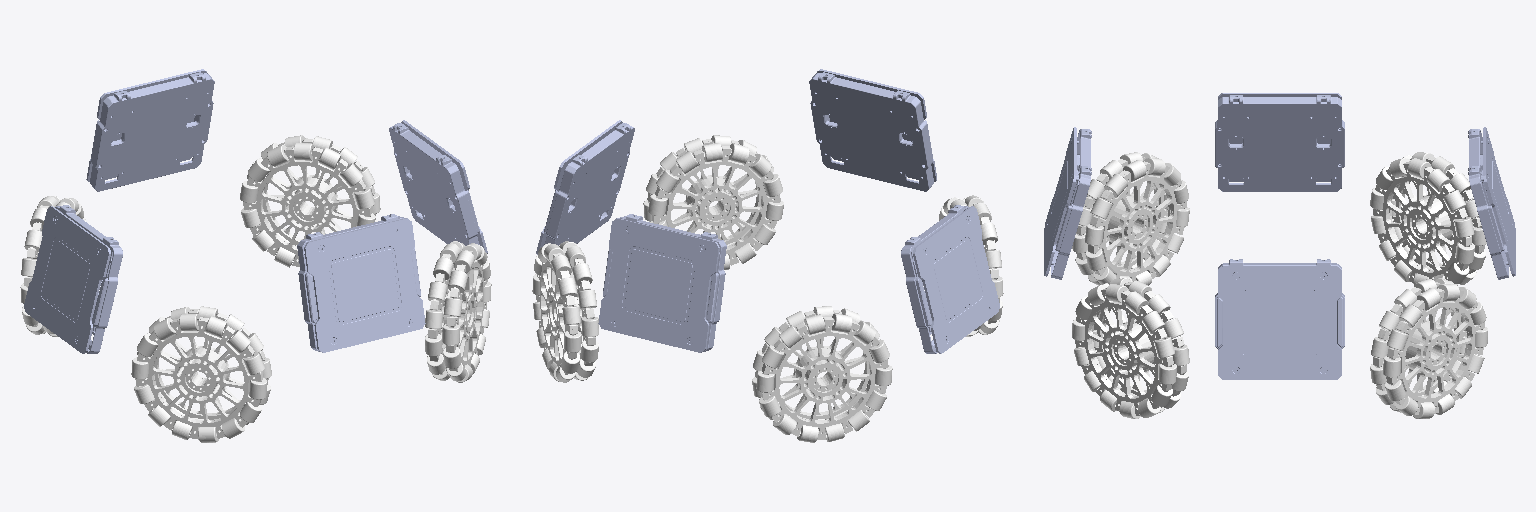
URDF robot description (sentry_solidworks_preview):
<?xml version='1.0' encoding='utf-8'?>
<robot name="sentry_solidworks_preview">
  <link name="base">
    <inertial>
      <origin xyz="0.0010047 0.003979 0.059702" rpy="0 0 0" />
      <mass value="7.5396" />
      <inertia ixx="0.011343" ixy="4.8356E-06" ixz="6.2947E-06" iyy="0.016275" iyz="-3.5443E-06" izz="0.023445" />
    </inertial>
    <visual>
      <origin xyz="0 0 0" rpy="0 0 0" />
      <geometry>
        <mesh filename="package://sentry_solidworks_preview/meshes/base.STL" />
      </geometry>
      <material name="">
        <color rgba="0.89804 0.91765 0.92941 1" />
      </material>
    </visual>
  </link>
  <link name="yaw">
    <inertial>
      <origin xyz="0.0073031 -0.030687 0.12548" rpy="0 0 0" />
      <mass value="2.4882" />
      <inertia ixx="0.0031992" ixy="-4.0159E-06" ixz="-1.5444E-05" iyy="0.0018446" iyz="-5.4833E-05" izz="0.0023987" />
    </inertial>
    <visual>
      <origin xyz="0 0 0" rpy="0 0 0" />
      <geometry>
        <mesh filename="package://sentry_solidworks_preview/meshes/yaw.STL" />
      </geometry>
      <material name="">
        <color rgba="0.79216 0.81961 0.93333 1" />
      </material>
    </visual>
  </link>
  <joint name="yaw" type="revolute">
    <origin xyz="0 0 0.1595" rpy="0 0 0" />
    <parent link="base" />
    <child link="yaw" />
    <axis xyz="0 0 -1" />
    <limit lower="0" upper="0" effort="0" velocity="0" />
  </joint>
  <link name="armor-1">
    <inertial>
      <origin xyz="-0.0083693 8.4227E-09 0.00081288" rpy="0 0 0" />
      <mass value="0.096294" />
      <inertia ixx="0.00027639" ixy="5.4094E-12" ixz="-2.6918E-07" iyy="0.00013222" iyz="4.6908E-10" izz="0.00014509" />
    </inertial>
    <visual>
      <origin xyz="0 0 0" rpy="0 0 0" />
      <geometry>
        <mesh filename="package://sentry_solidworks_preview/meshes/armor-1.STL" />
      </geometry>
      <material name="">
        <color rgba="0.79216 0.81961 0.93333 1" />
      </material>
    </visual>
  </link>
  <joint name="armor-1" type="fixed">
    <origin xyz="0.23985 0 0.063281" rpy="0 -0.2618 0" />
    <parent link="base" />
    <child link="armor-1" />
    <axis xyz="0 0 0" />
  </joint>
  <link name="armor-2">
    <inertial>
      <origin xyz="-0.00836925080902123 6.89301807833633E-09 0.000812881822971637" rpy="0 0 0" />
      <mass value="0.0962935697647964" />
      <inertia ixx="0.000276386812497067" ixy="5.08518002775209E-12" ixz="-2.69180564566259E-07" iyy="0.000132220586535066" iyz="4.74150910029258E-10" izz="0.000145085858261613" />
    </inertial>
    <visual>
      <origin xyz="0 0 0" rpy="0 0 0" />
      <geometry>
        <mesh filename="package://sentry_solidworks_preview/meshes/armor-2.STL" />
      </geometry>
      <material name="">
        <color rgba="0.792156862745098 0.819607843137255 0.933333333333333 1" />
      </material>
    </visual>
  </link>
  <joint name="armor-2" type="fixed">
    <origin xyz="0 0.23985 0.097281" rpy="0 -0.2618 1.5708" />
    <parent link="base" />
    <child link="armor-2" />
    <axis xyz="0 0 0" />
  </joint>
  <link name="armor-3">
    <inertial>
      <origin xyz="-0.00836925081228684 6.93128750978365E-09 0.000812881840901607" rpy="0 0 0" />
      <mass value="0.0962935698388428" />
      <inertia ixx="0.000276386812728384" ixy="5.07055491146337E-12" ixz="-2.69180569171151E-07" iyy="0.000132220586570095" iyz="4.74063498642607E-10" izz="0.000145085858456597" />
    </inertial>
    <visual>
      <origin xyz="0 0 0" rpy="0 0 0" />
      <geometry>
        <mesh filename="package://sentry_solidworks_preview/meshes/armor-3.STL" />
      </geometry>
      <material name="">
        <color rgba="0.792156862745098 0.819607843137255 0.933333333333333 1" />
      </material>
    </visual>
  </link>
  <joint name="armor-3" type="fixed">
    <origin xyz="-0.23985 0 0.063281" rpy="0 -0.2618 3.1416" />
    <parent link="base" />
    <child link="armor-3" />
    <axis xyz="0 0 0" />
  </joint>
  <link name="armor-4">
    <inertial>
      <origin xyz="-0.00836925131775479 8.42269349814076E-09 0.000812883512834726" rpy="0 0 0" />
      <mass value="0.0962935746437901" />
      <inertia ixx="0.000276386822654386" ixy="5.40938965716771E-12" ixz="-2.69180231474907E-07" iyy="0.000132220591944976" iyz="4.69081143628311E-10" izz="0.000145085863011321" />
    </inertial>
    <visual>
      <origin xyz="0 0 0" rpy="0 0 0" />
      <geometry>
        <mesh filename="package://sentry_solidworks_preview/meshes/armor-4.STL" />
      </geometry>
      <material name="">
        <color rgba="0.792156862745098 0.819607843137255 0.933333333333333 1" />
      </material>
    </visual>
  </link>
  <joint name="armor-4" type="fixed">
    <origin xyz="0 -0.23985 0.097281" rpy="0 -0.2618 -1.5708" />
    <parent link="base" />
    <child link="armor-4" />
    <axis xyz="0 0 0" />
  </joint>
  <link name="wheel-1">
    <inertial>
      <origin xyz="-8.3267E-17 1.2255E-06 -2.2245E-06" rpy="0 0 0" />
      <mass value="0.27879" />
      <inertia ixx="0.00033504" ixy="0" ixz="-5.0221E-21" iyy="0.00017157" iyz="3.516E-09" izz="0.00017157" />
    </inertial>
    <visual>
      <origin xyz="0 0 0" rpy="0 0 0" />
      <geometry>
        <mesh filename="package://sentry_solidworks_preview/meshes/wheel-1.STL" />
      </geometry>
      <material name="">
        <color rgba="1 1 1 1" />
      </material>
    </visual>
  </link>
  <joint name="wheel-1" type="revolute">
    <origin xyz="0.16209 0.16209 -0.0037427" rpy="0 0 0.7854" />
    <parent link="base" />
    <child link="wheel-1" />
    <axis xyz="-1 0 0" />
    <limit lower="0" upper="0" effort="0" velocity="0" />
  </joint>
  <link name="wheel-2">
    <inertial>
      <origin xyz="-5.55111512312578E-17 1.22546543876445E-06 -2.22448121725257E-06" rpy="0 0 0" />
      <mass value="0.278789920208083" />
      <inertia ixx="0.000335035371207934" ixy="0" ixz="-4.20045306889438E-21" iyy="0.00017157333532205" iyz="3.51600462406793E-09" izz="0.00017156918018934" />
    </inertial>
    <visual>
      <origin xyz="0 0 0" rpy="0 0 0" />
      <geometry>
        <mesh filename="package://sentry_solidworks_preview/meshes/wheel-2.STL" />
      </geometry>
      <material name="">
        <color rgba="1 1 1 1" />
      </material>
    </visual>
  </link>
  <joint name="wheel-2" type="revolute">
    <origin xyz="-0.16209 0.16209 -0.0037427" rpy="0 0 2.3562" />
    <parent link="base" />
    <child link="wheel-2" />
    <axis xyz="-1 0 0" />
    <limit lower="0" upper="0" effort="0" velocity="0" />
  </joint>
  <link name="wheel-3">
    <inertial>
      <origin xyz="5.55111512312578E-17 1.22546543877833E-06 -2.22448121725951E-06" rpy="0 0 0" />
      <mass value="0.278789920208083" />
      <inertia ixx="0.000335035371207934" ixy="-6.7762635780344E-21" ixz="-6.37003941025242E-21" iyy="0.00017157333532205" iyz="3.51600462407923E-09" izz="0.00017156918018934" />
    </inertial>
    <visual>
      <origin xyz="0 0 0" rpy="0 0 0" />
      <geometry>
        <mesh filename="package://sentry_solidworks_preview/meshes/wheel-3.STL" />
      </geometry>
      <material name="">
        <color rgba="1 1 1 1" />
      </material>
    </visual>
  </link>
  <joint name="wheel-3" type="revolute">
    <origin xyz="-0.16209 -0.16209 -0.0037427" rpy="0 0 -2.3562" />
    <parent link="base" />
    <child link="wheel-3" />
    <axis xyz="-1 0 0" />
    <limit lower="0" upper="0" effort="0" velocity="0" />
  </joint>
  <link name="wheel-4">
    <inertial>
      <origin xyz="5.55111512312578E-17 1.22546543865343E-06 -2.2244812172582E-06" rpy="0 0 0" />
      <mass value="0.278789920208083" />
      <inertia ixx="0.000335035371207934" ixy="-1.35525271560688E-20" ixz="-3.57442660482779E-21" iyy="0.00017157333532205" iyz="3.51600462407832E-09" izz="0.00017156918018934" />
    </inertial>
    <visual>
      <origin xyz="0 0 0" rpy="0 0 0" />
      <geometry>
        <mesh filename="package://sentry_solidworks_preview/meshes/wheel-4.STL" />
      </geometry>
      <material name="">
        <color rgba="1 1 1 1" />
      </material>
    </visual>
  </link>
  <joint name="wheel-4" type="revolute">
    <origin xyz="0.16209 -0.16209 -0.0037427" rpy="0 0 -0.7854" />
    <parent link="base" />
    <child link="wheel-4" />
    <axis xyz="-1 0 0" />
    <limit lower="0" upper="0" effort="0" velocity="0" />
  </joint>
</robot>

--- What the picture shows (computed from the rendered views, not written in the file) ---
Views: 3 orthographic renders of the robot side by side, from view 1: azimuth 30°, elevation 25°; view 2: azimuth 150°, elevation 25°; view 3: azimuth 270°, elevation 25°.
Model sentry_solidworks_preview with 10 links and 9 joints (5 revolute, 4 fixed), rooted at base, posed every joint at zero.
Links seen in each view (by area): view 1: armor-4, wheel-3, armor-2, wheel-1, armor-3, wheel-4, armor-1, wheel-2; view 2: armor-2, wheel-2, armor-4, wheel-4, armor-3, wheel-1, armor-1, wheel-3; view 3: armor-1, armor-3, wheel-4, wheel-1, wheel-3, wheel-2, armor-2, armor-4.
Link boxes in pixels (box(x1,y1,x2,y2)): armor-4: box(297, 214, 425, 352); wheel-3: box(131, 306, 271, 442); armor-2: box(86, 69, 214, 191); wheel-1: box(240, 135, 380, 267); armor-3: box(24, 205, 122, 353); wheel-4: box(425, 241, 491, 382); armor-1: box(389, 120, 487, 253); wheel-2: box(20, 196, 85, 336); armor-2: box(598, 214, 726, 352); wheel-2: box(752, 306, 892, 442); armor-4: box(809, 69, 936, 191); wheel-4: box(643, 135, 783, 269); armor-3: box(901, 205, 999, 353); wheel-1: box(532, 241, 598, 382); armor-1: box(536, 120, 634, 254); wheel-3: box(939, 195, 1003, 336); armor-1: box(1215, 259, 1344, 379); armor-3: box(1215, 93, 1344, 191); wheel-4: box(1072, 278, 1189, 418); wheel-1: box(1370, 278, 1487, 418); wheel-3: box(1072, 152, 1189, 285); wheel-2: box(1370, 152, 1486, 285); armor-2: box(1468, 127, 1515, 279); armor-4: box(1044, 127, 1091, 279).
Bounding box of the posed robot: 0.5121 × 0.5121 × 0.2394 m (x, y, z).
8 mesh visuals loaded from 10 distinct referenced files (8 binary STL); not drawn: 2 (reference not matched to a file when rendering).
